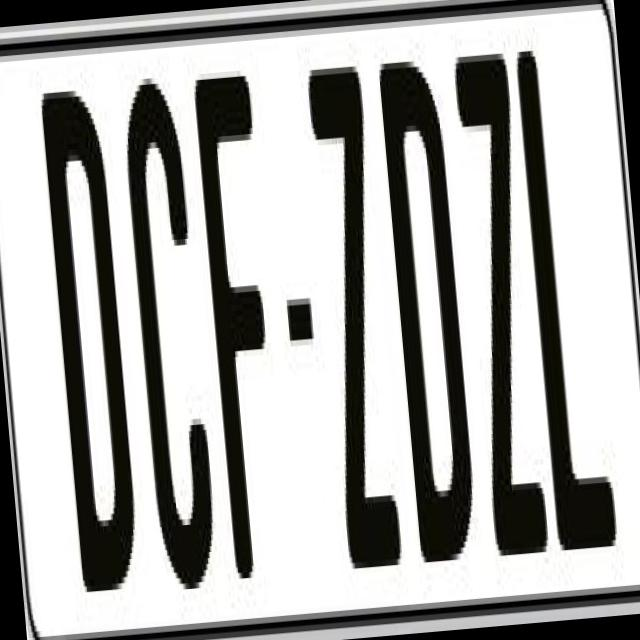C: (119, 70, 219, 584)
D: (34, 76, 146, 610), (375, 58, 483, 574)
F: (192, 62, 299, 578)
L: (512, 34, 620, 556)
Z: (304, 47, 411, 557), (452, 41, 550, 562)
